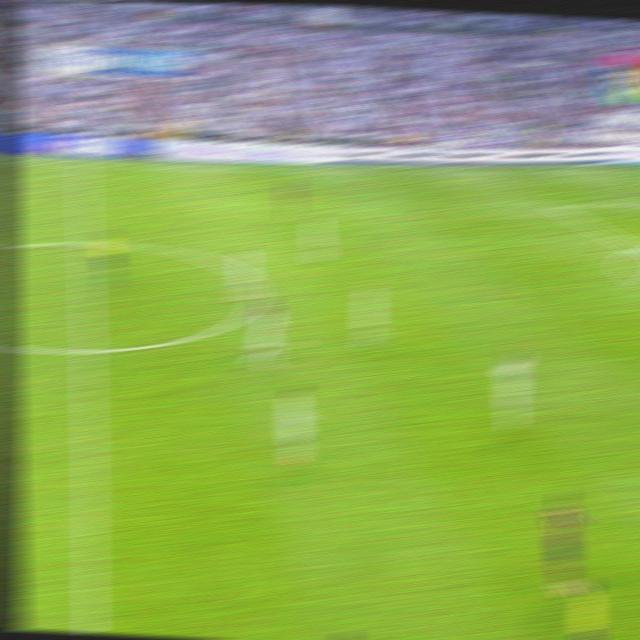halfcircle_bottom: (76, 335, 100, 363)
halfcircle_top: (74, 232, 96, 253)
midline_top_intersection: (74, 157, 93, 170)
top_arc_area_intersection: (624, 238, 640, 253)
